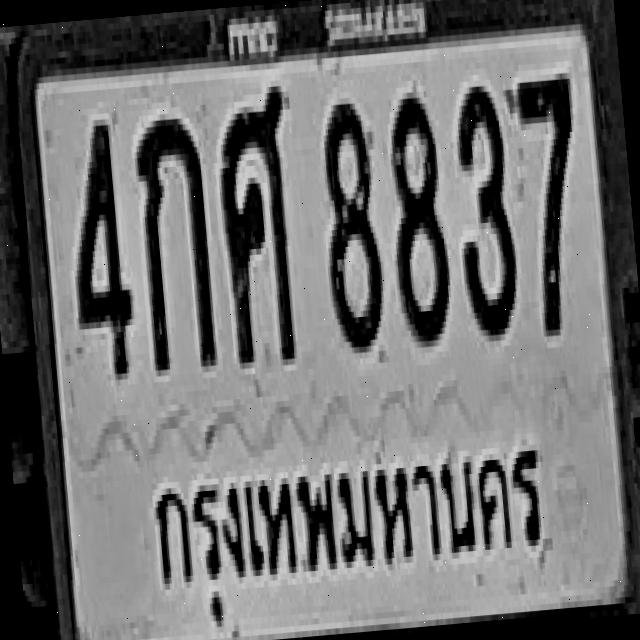10GorGai: (130, 110, 218, 370)
3: (448, 78, 520, 336)
4: (62, 120, 136, 380)
47SorSala: (212, 83, 304, 366)
7: (512, 70, 590, 333)
8: (314, 99, 386, 351), (382, 90, 454, 342)
Bangkok: (138, 413, 558, 640)
